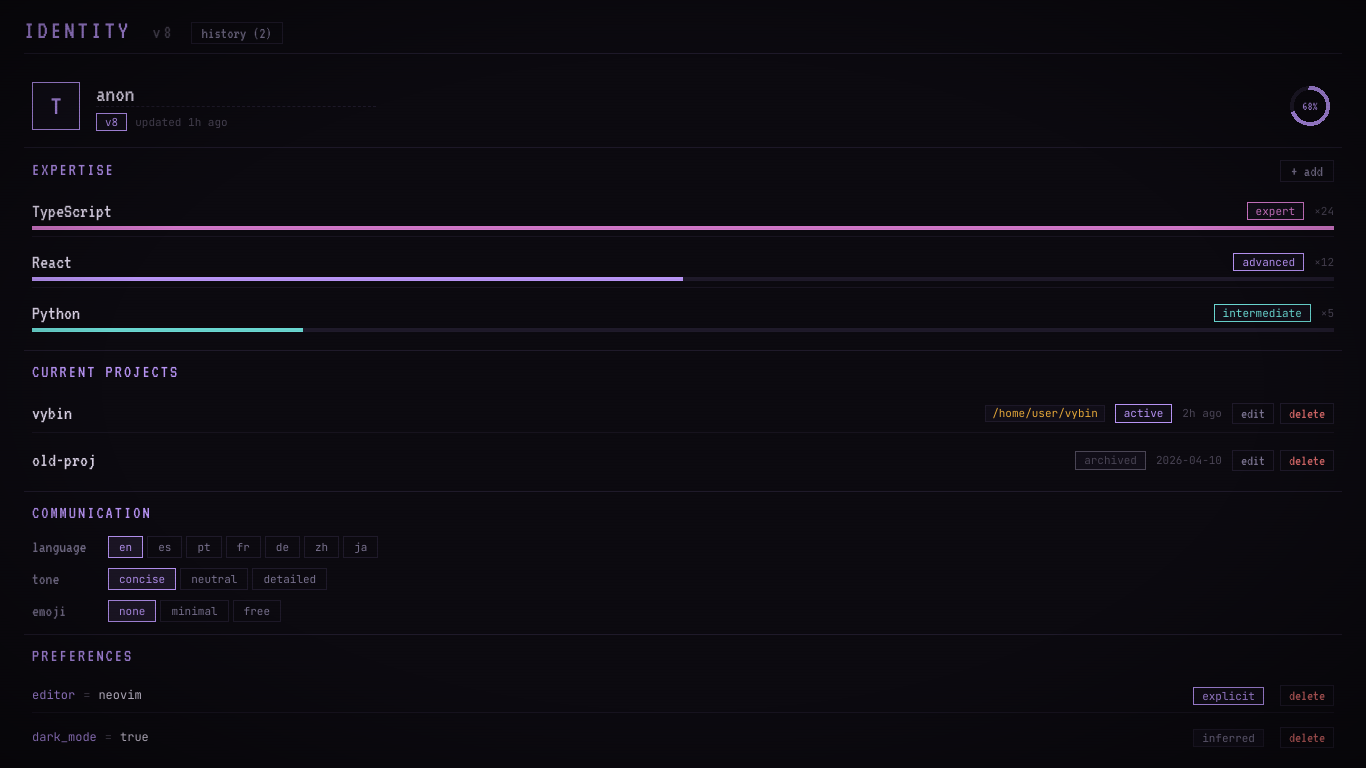
UserModelView — expertise interactions › shows confirm delete after first delete click
Click the text "TypeScript".
click(72, 211)  # box [32,200,1334,222]
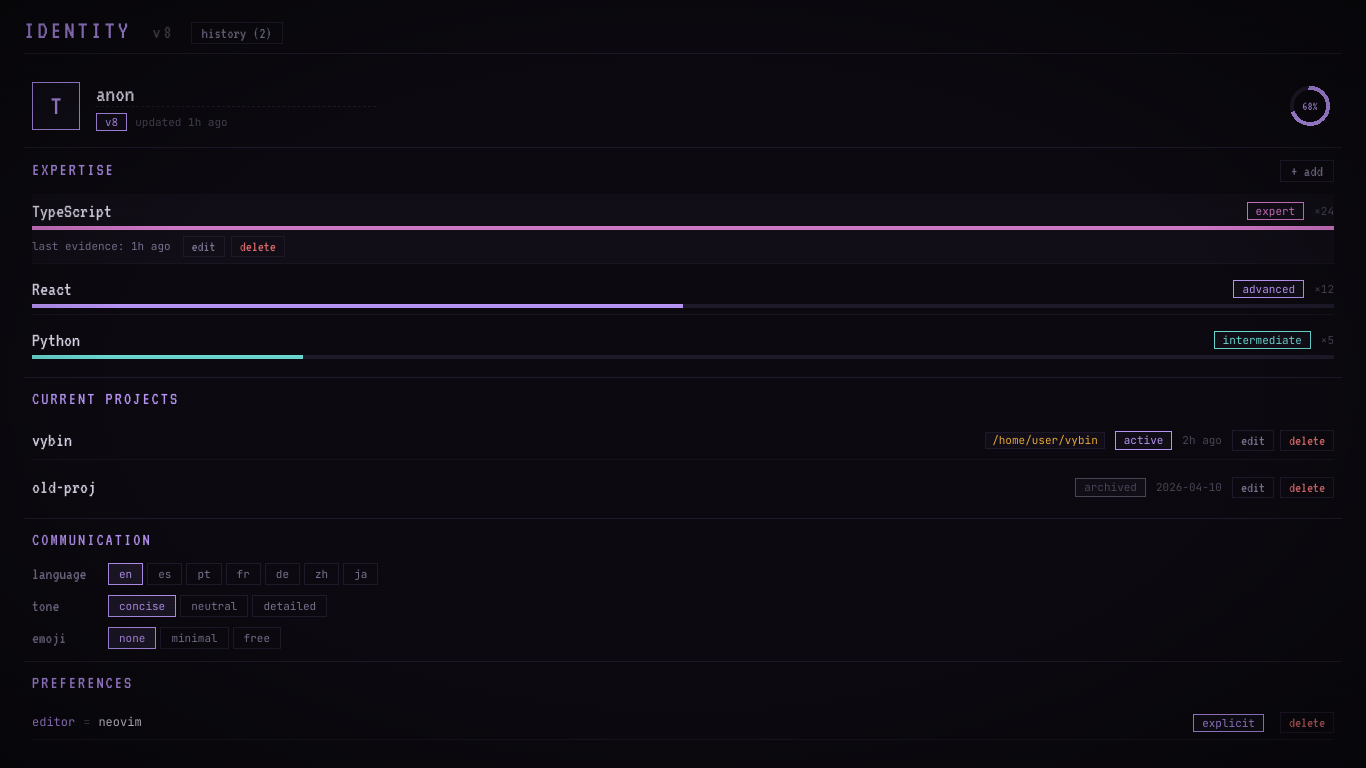
Click the button "delete" in the row of "last evidence:".
click(258, 246)  # box [231,236,285,257]
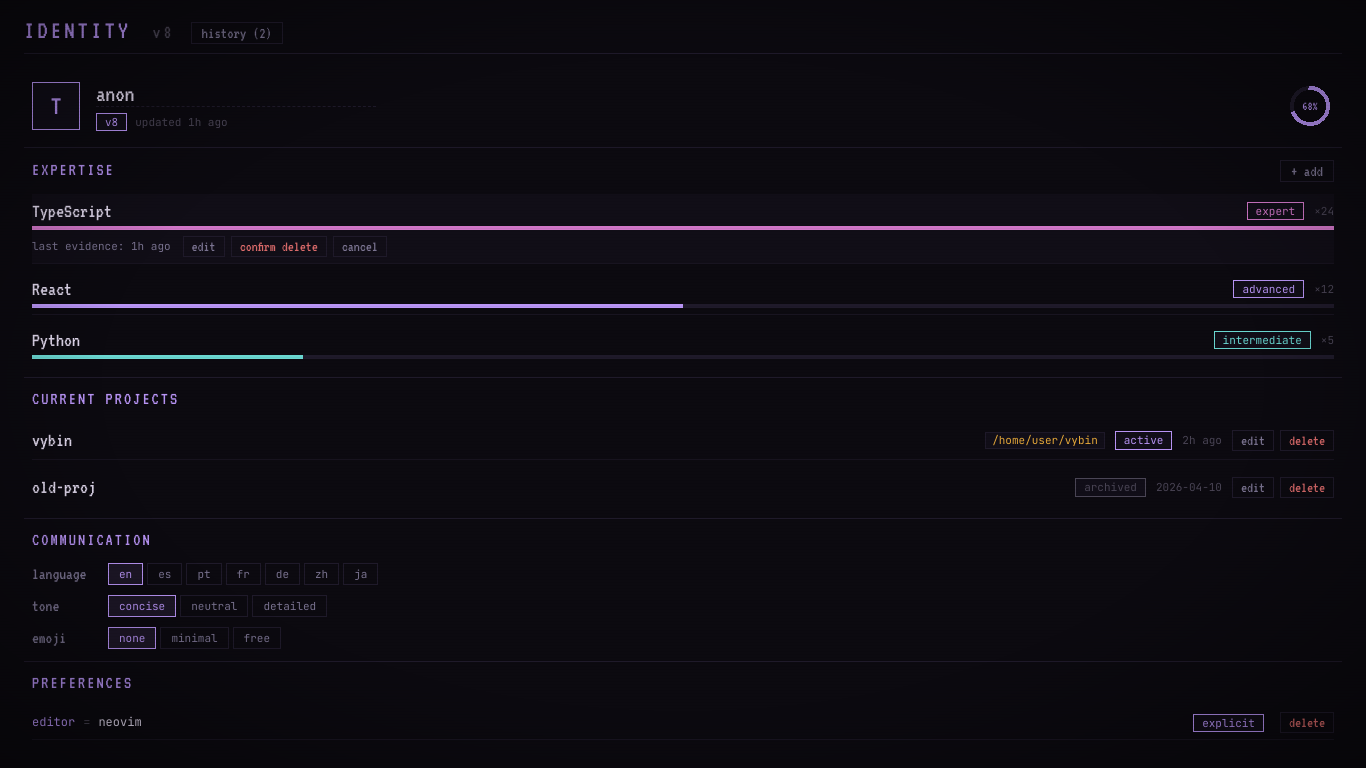
Result: the button "confirm delete" is shown at [231,236,327,257]
